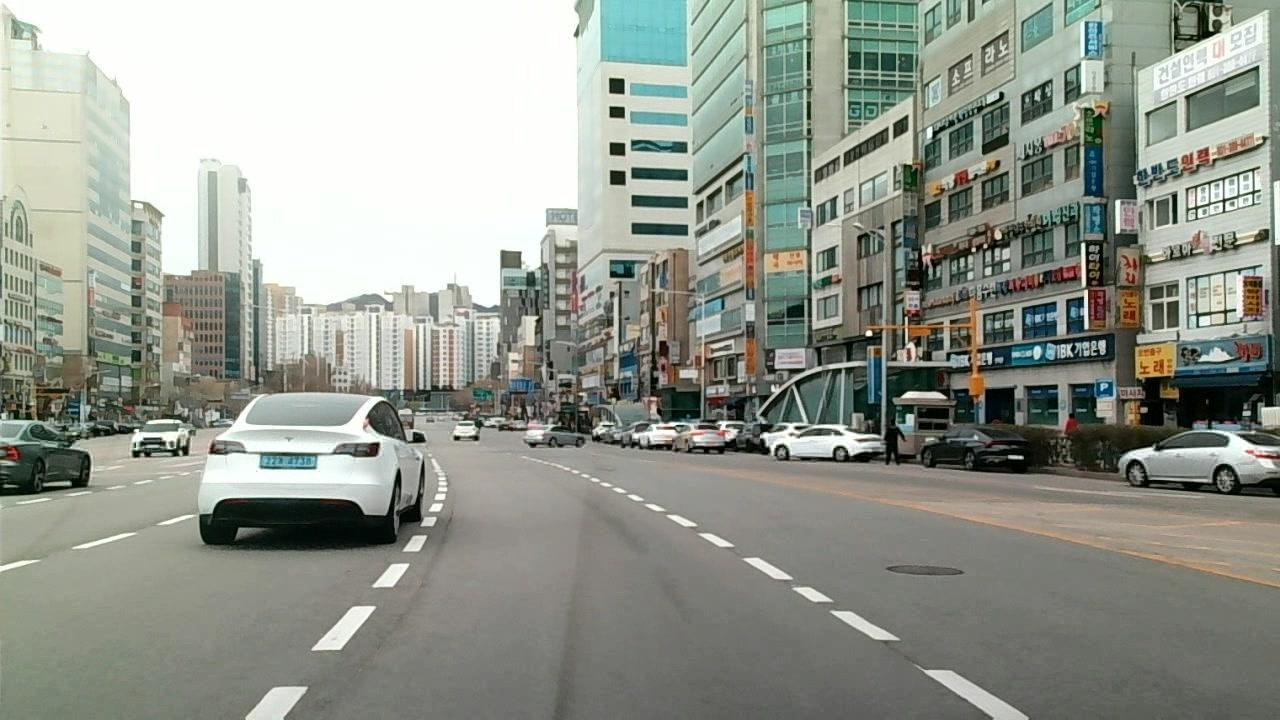banner: (367, 583, 428, 652), (425, 504, 457, 575)
